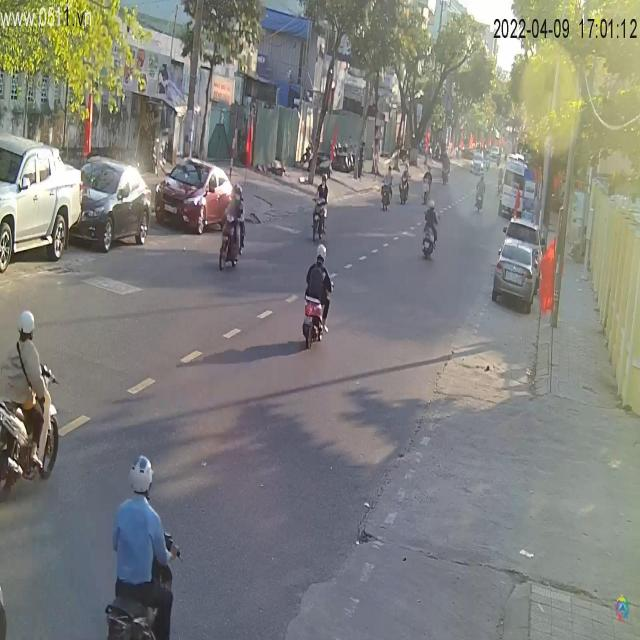car: (1, 132, 84, 275), (73, 157, 153, 254), (156, 162, 234, 234), (492, 235, 542, 314), (472, 154, 487, 174)
motorcycle: (300, 266, 335, 352), (218, 199, 248, 270), (309, 187, 328, 241), (421, 212, 438, 261), (380, 175, 392, 214)
